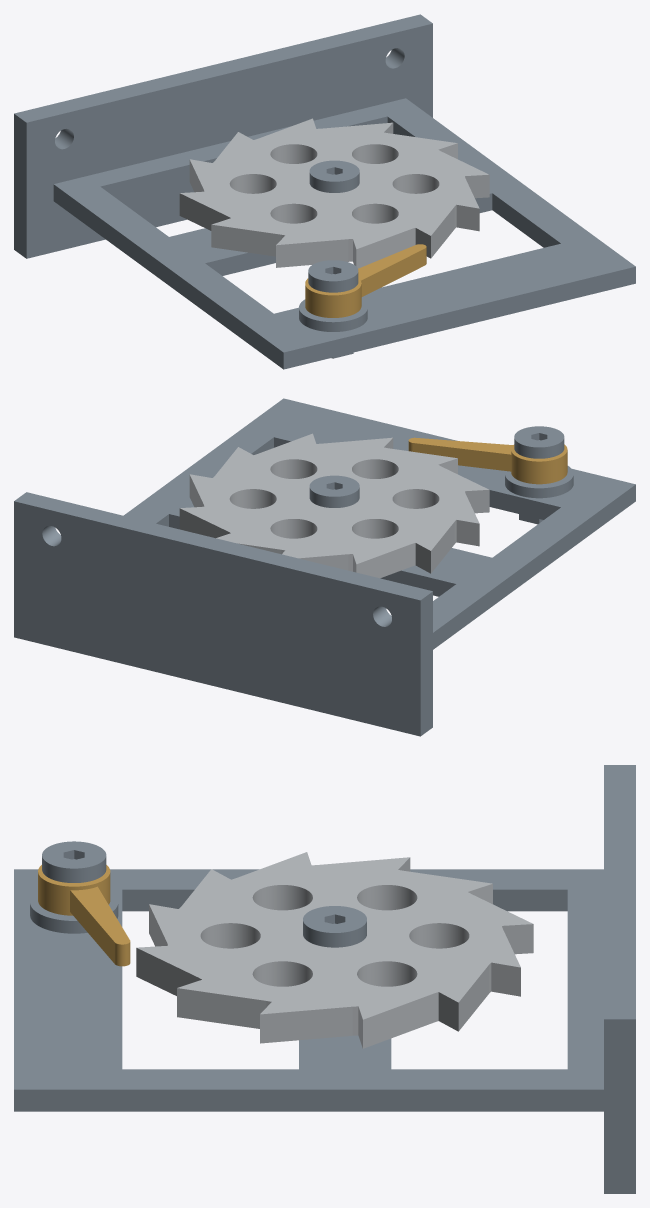
File: original-body-local.glb
3 renders of one model, top to bottom at view 1: azimuth 30°, elevation 25°; view 2: azimuth 150°, elevation 25°; view 3: azimuth 270°, elevation 25°, orthographic. The views are drawn at different scales.
Parts seen in each view (by area): view 1: frame, wheel, pawl; view 2: frame, wheel, pawl; view 3: frame, wheel, pawl.
Part boxes in pixels (bbox=[...]): frame: bbox=[14, 14, 635, 369]; wheel: bbox=[179, 118, 489, 268]; pawl: bbox=[305, 244, 426, 317]; frame: bbox=[14, 398, 635, 736]; wheel: bbox=[179, 433, 489, 578]; pawl: bbox=[408, 437, 567, 484]; frame: bbox=[14, 765, 635, 1193]; wheel: bbox=[136, 852, 533, 1048]; pawl: bbox=[38, 865, 130, 966].
Bounding box in the file's own units: 0.15 × 0.048 × 0.155.
